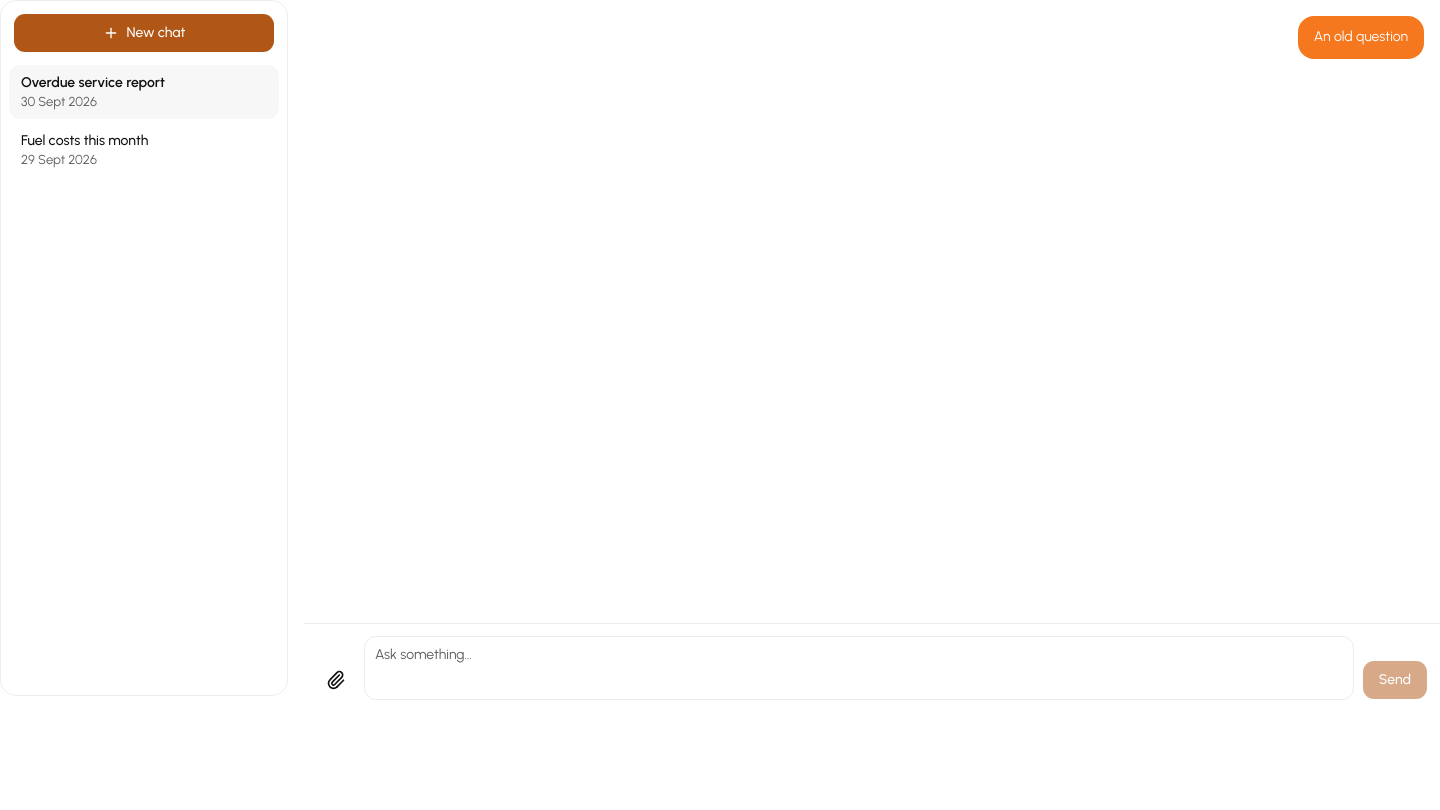
Test: ChatPage › new chat › clears the open conversation and removes ?session from the URL
This screenshot has width=1440, height=810.
Expected: the text "An old question" is shown, [1314, 26, 1408, 49]
Click the button "New chat".
click(144, 33)  # box [13, 13, 275, 53]
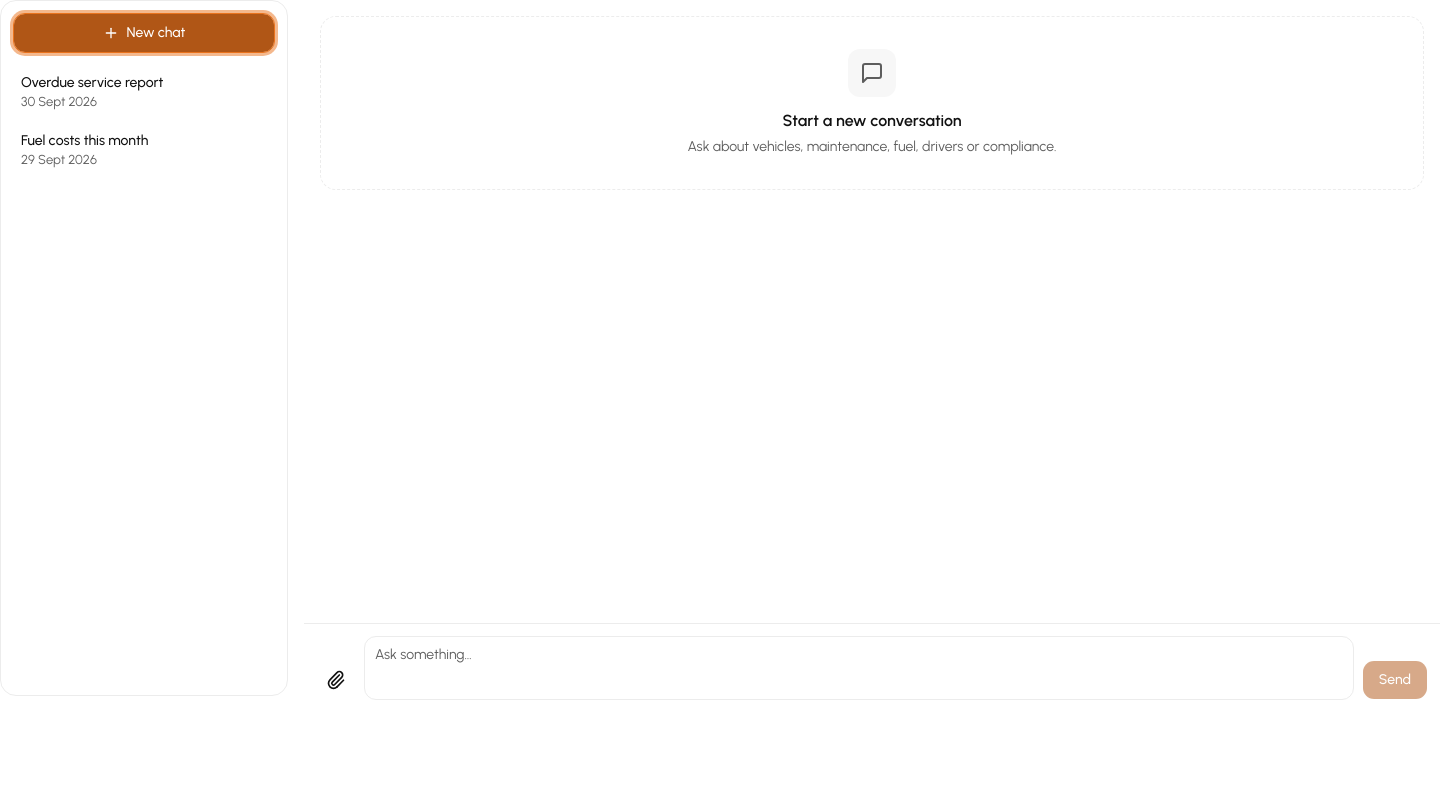
Now the text "An old question" is gone
Now the text "Start a new conversation" is shown, box [782, 111, 962, 130]
